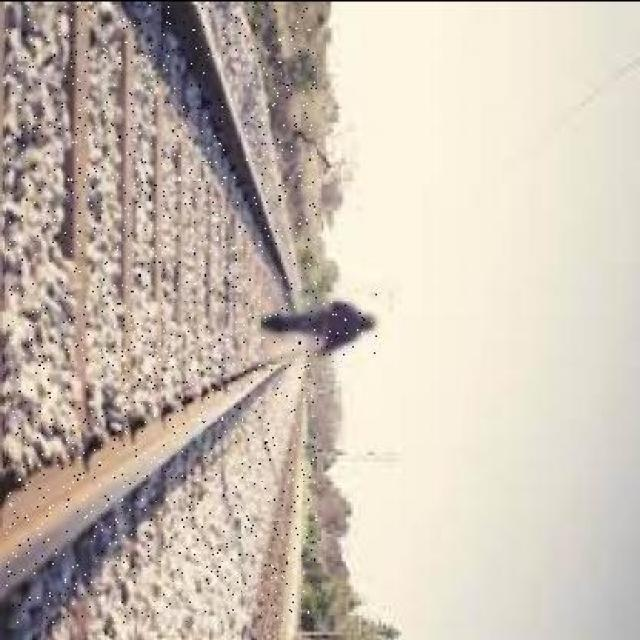rail: (7, 5, 317, 623)
